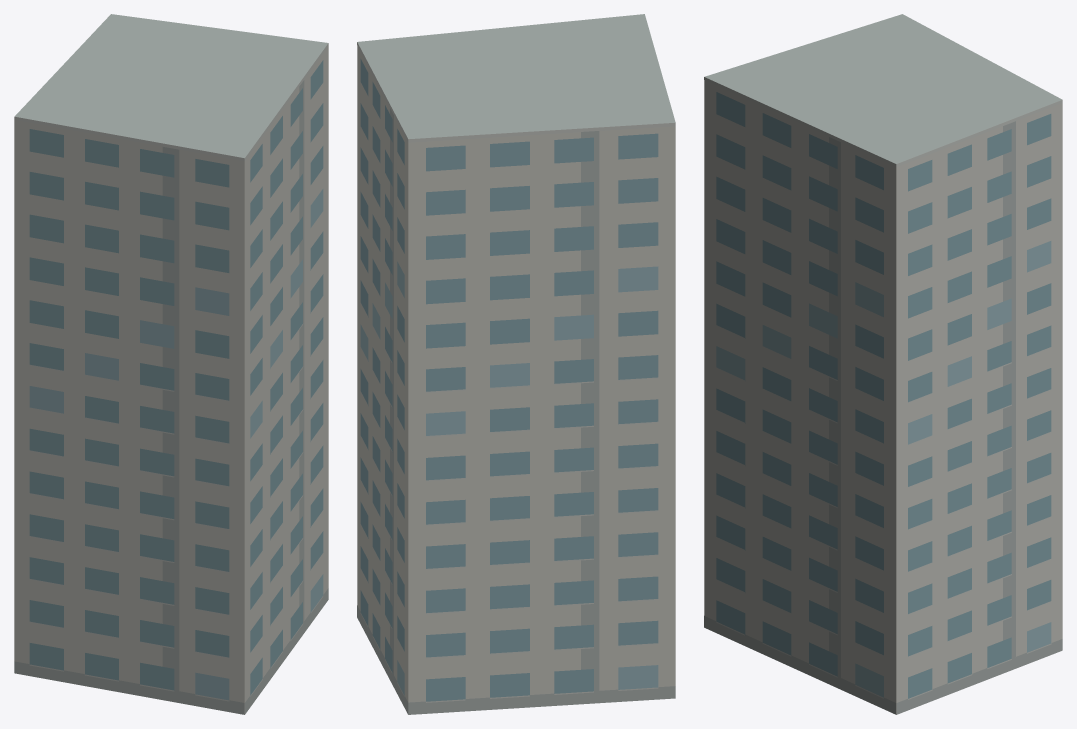
File: residential-690ba709-31b7-4e30-bfb5-85e56f13f218.glb
3 views of the same model, side by side, from view 1: azimuth 30°, elevation 25°; view 2: azimuth 150°, elevation 25°; view 3: azimuth 270°, elevation 25° (orthographic). The views are drawn at different scales.
Parts seen in each view (by area): view 1: residential-690ba709-31b7-4e30-bfb5-85e56f13f218.tmp; view 2: residential-690ba709-31b7-4e30-bfb5-85e56f13f218.tmp; view 3: residential-690ba709-31b7-4e30-bfb5-85e56f13f218.tmp.
Part boxes in pixels (x1,y1,x2,y2): residential-690ba709-31b7-4e30-bfb5-85e56f13f218.tmp: [14, 14, 328, 714]; residential-690ba709-31b7-4e30-bfb5-85e56f13f218.tmp: [357, 14, 675, 714]; residential-690ba709-31b7-4e30-bfb5-85e56f13f218.tmp: [704, 14, 1062, 714].
Bounding box in the file's own units: 23.98 × 41 × 24.2.
